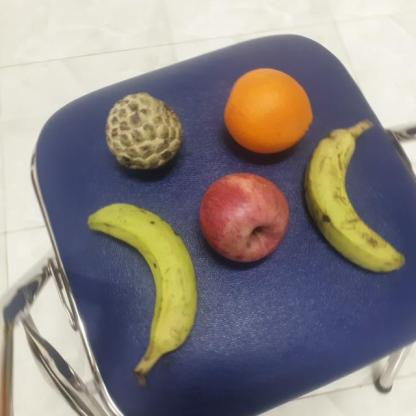annona: (104, 92, 185, 170)
apple: (195, 170, 292, 264)
banana: (83, 201, 200, 359), (304, 126, 409, 278)
orange: (222, 64, 314, 154)
